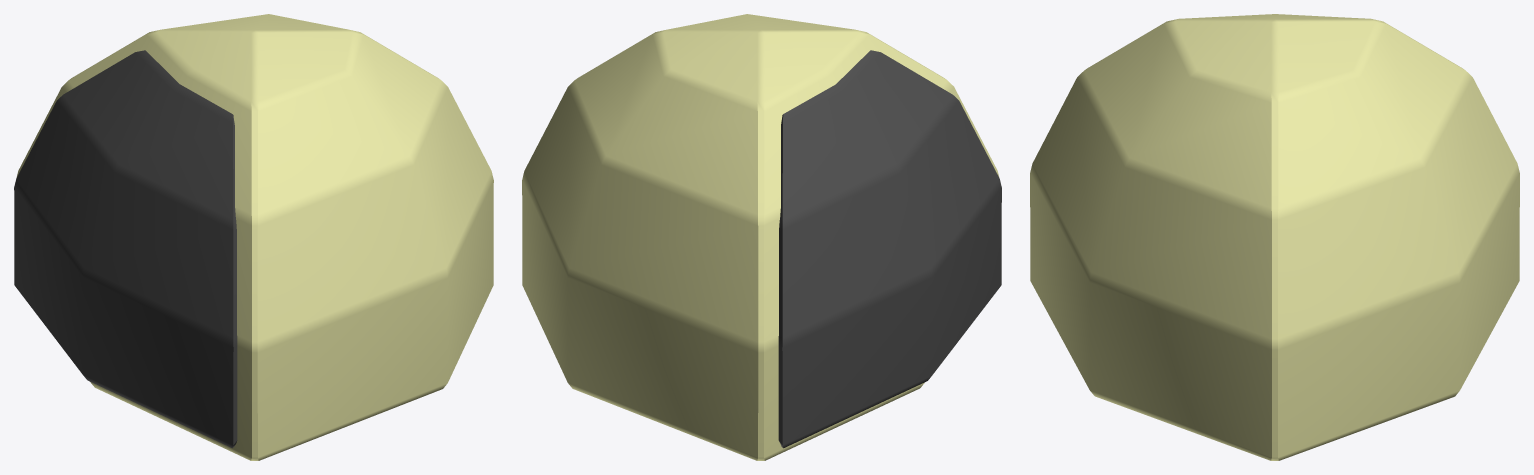
File: tent.fbx
3 renders of one model, left to right at view 1: azimuth 30°, elevation 25°; view 2: azimuth 150°, elevation 25°; view 3: azimuth 270°, elevation 25°, orthographic. The views are drawn at different scales.
Parts seen in each view (by area): view 1: polySurface5; view 2: polySurface5; view 3: polySurface5.
Part boxes in pixels (x1,y1,x2,y2): polySurface5: (14,14,493,460); polySurface5: (522,14,1001,460); polySurface5: (1030,14,1519,460).
Size of the model in its own units: 495 by 392 by 501.
